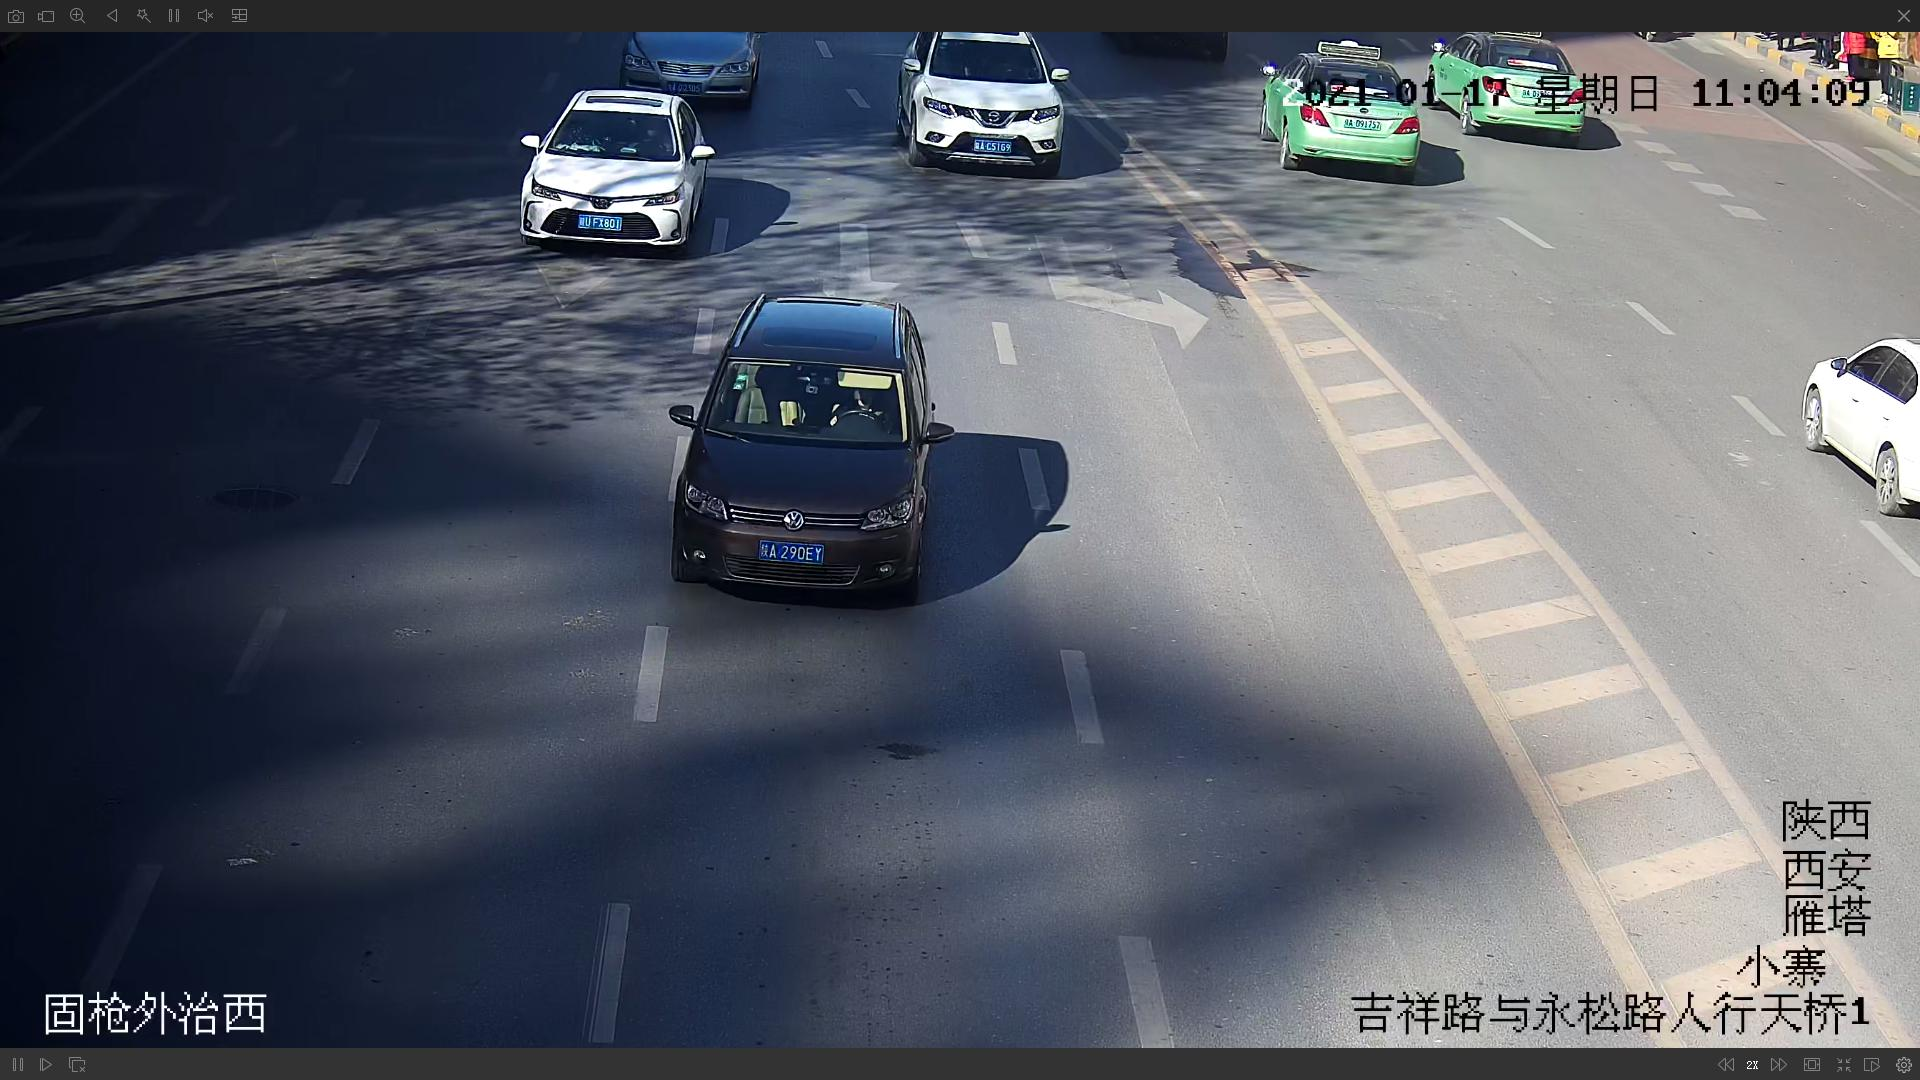black: (667, 295, 945, 601)
white: (514, 87, 715, 258), (887, 32, 1069, 178)
